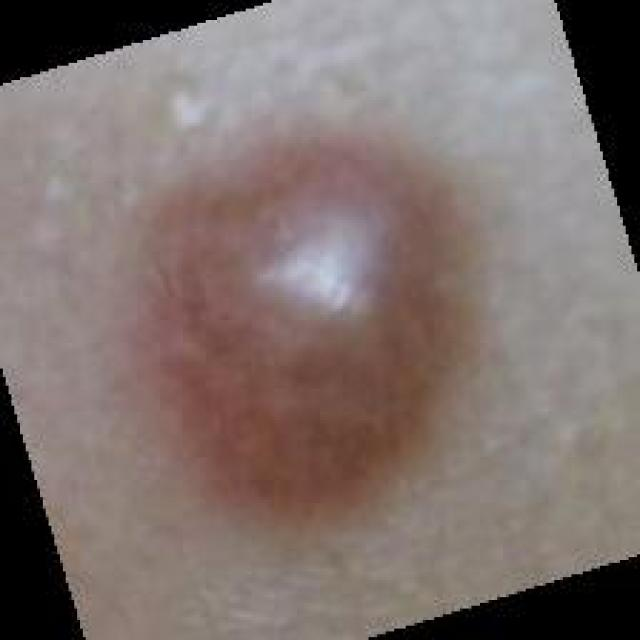monkeypox: (45, 48, 613, 582)
